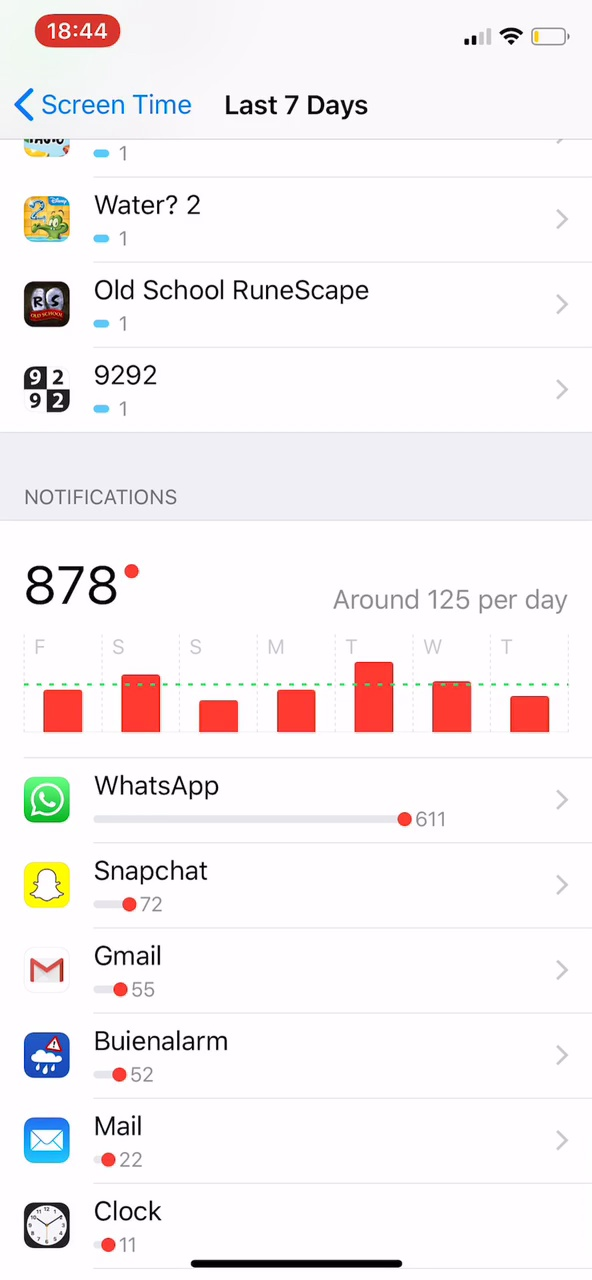not_app: (12, 755, 490, 846), (9, 1018, 264, 1096), (12, 849, 264, 924), (6, 930, 209, 1009), (11, 1101, 202, 1182), (12, 1183, 221, 1257)
not_over: (7, 461, 196, 624)
pick_app: (11, 258, 400, 348), (9, 178, 268, 256), (5, 354, 196, 426)
week: (213, 89, 376, 122)
